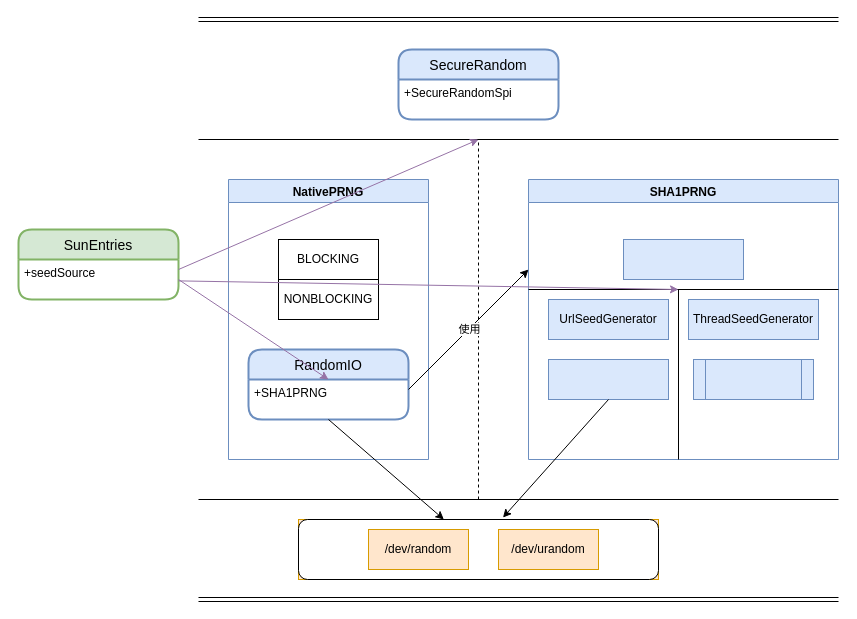
Image size: 857x619. Some labels were removed from this diagram. The shapes that lost their labels are listed below. From the top down, each one's centre as x and y in pixels, then its label:
At point (683, 259): "SeedGenerator".
At point (608, 379): "NativeSeedGenerator".
At point (753, 379): "Thread".
